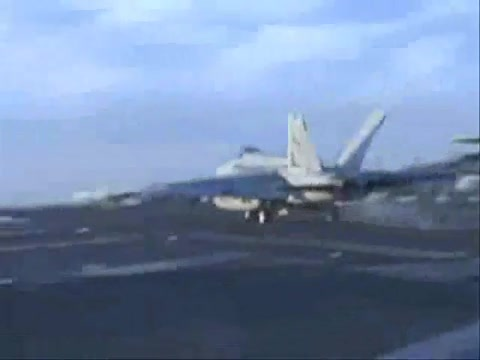aeroplane: (110, 110, 460, 228)
